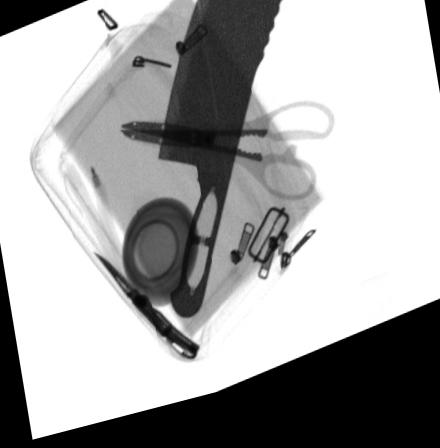Knife: (158, 0, 288, 329)
Scissors: (119, 118, 333, 218)
